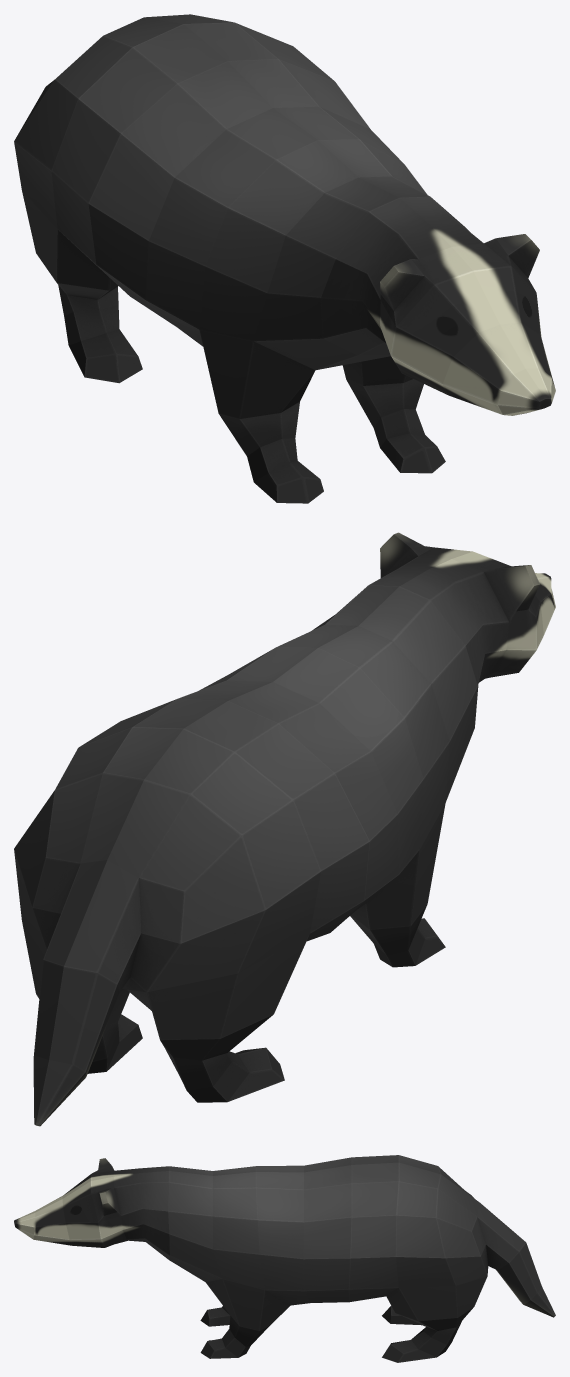
Rendered from Badger.obj.
The picture shows the model from 3 angles, top to bottom: view 1: azimuth 30°, elevation 25°; view 2: azimuth 150°, elevation 25°; view 3: azimuth 270°, elevation 25°; orthographic projection. The views are drawn at different scales.
Visible parts, largest first — view 1: Badger:Badger_mesh; view 2: Badger:Badger_mesh; view 3: Badger:Badger_mesh.
Boxes of the visible parts, x1,y1,x2,y2 form: Badger:Badger_mesh: (14, 14, 555, 503); Badger:Badger_mesh: (14, 532, 555, 1126); Badger:Badger_mesh: (14, 1155, 555, 1362).
Size of the model in its own units: 3.41 by 3.8 by 10.71.
1 material, 1 textured.
